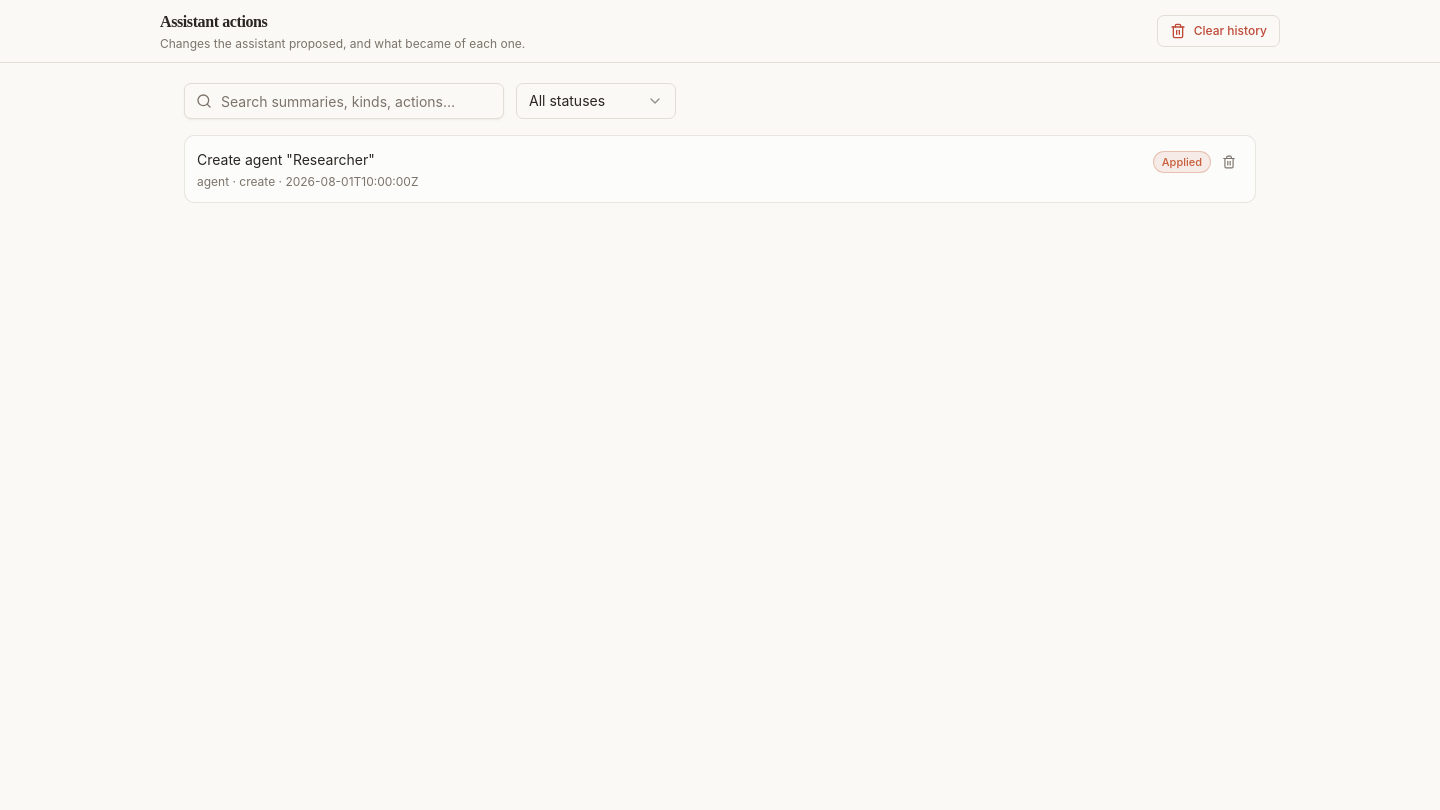
Scenario: AppActionsPage › deletes a resolved history entry after confirmation
The image size is (1440, 810).
Expected: the text "Create agent \"Researcher\"" is shown, [197, 151, 375, 168]
Click the button named "Delete history entry" at (1229, 162), box [1215, 148, 1243, 176]
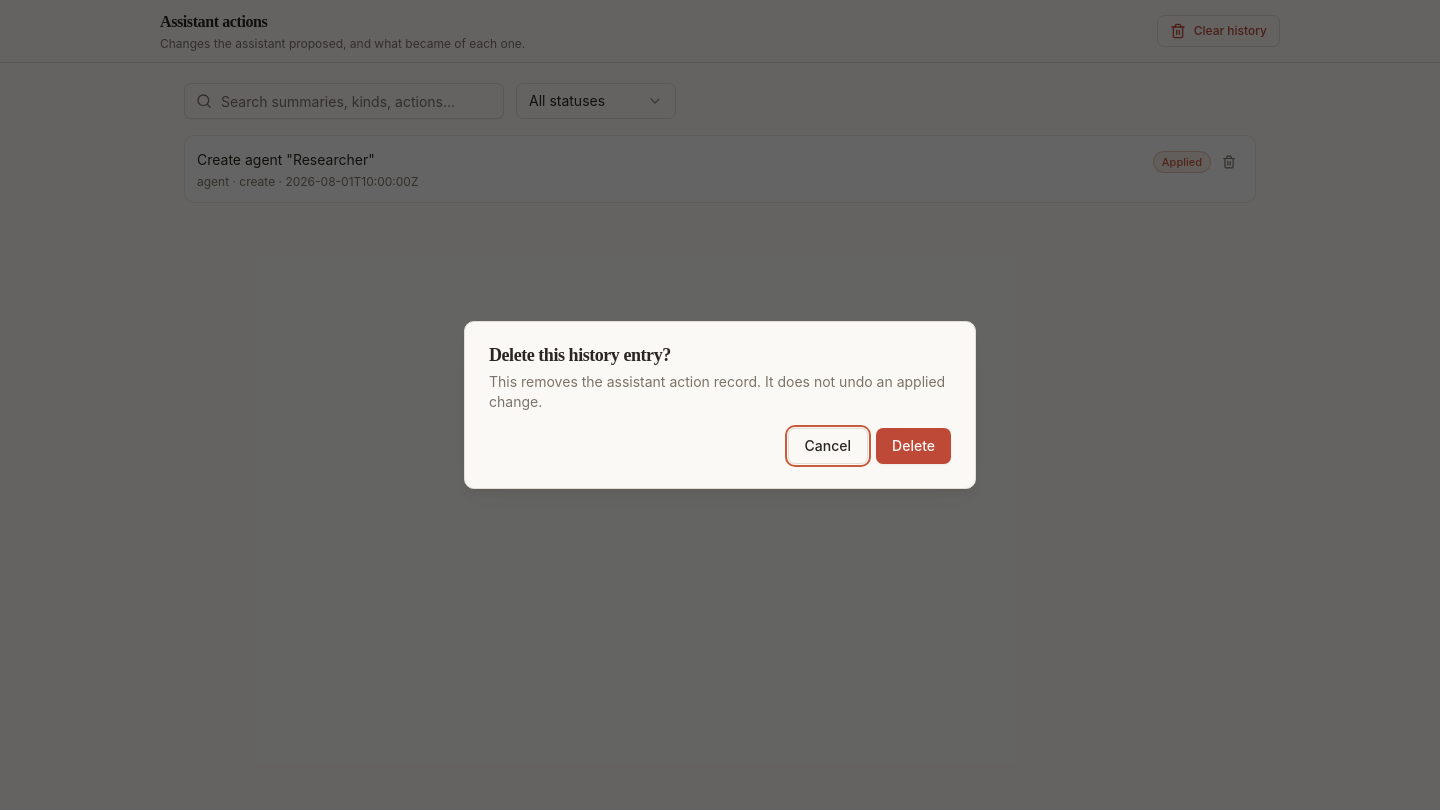
Click the button "Delete" at (914, 446), box [876, 428, 951, 464]
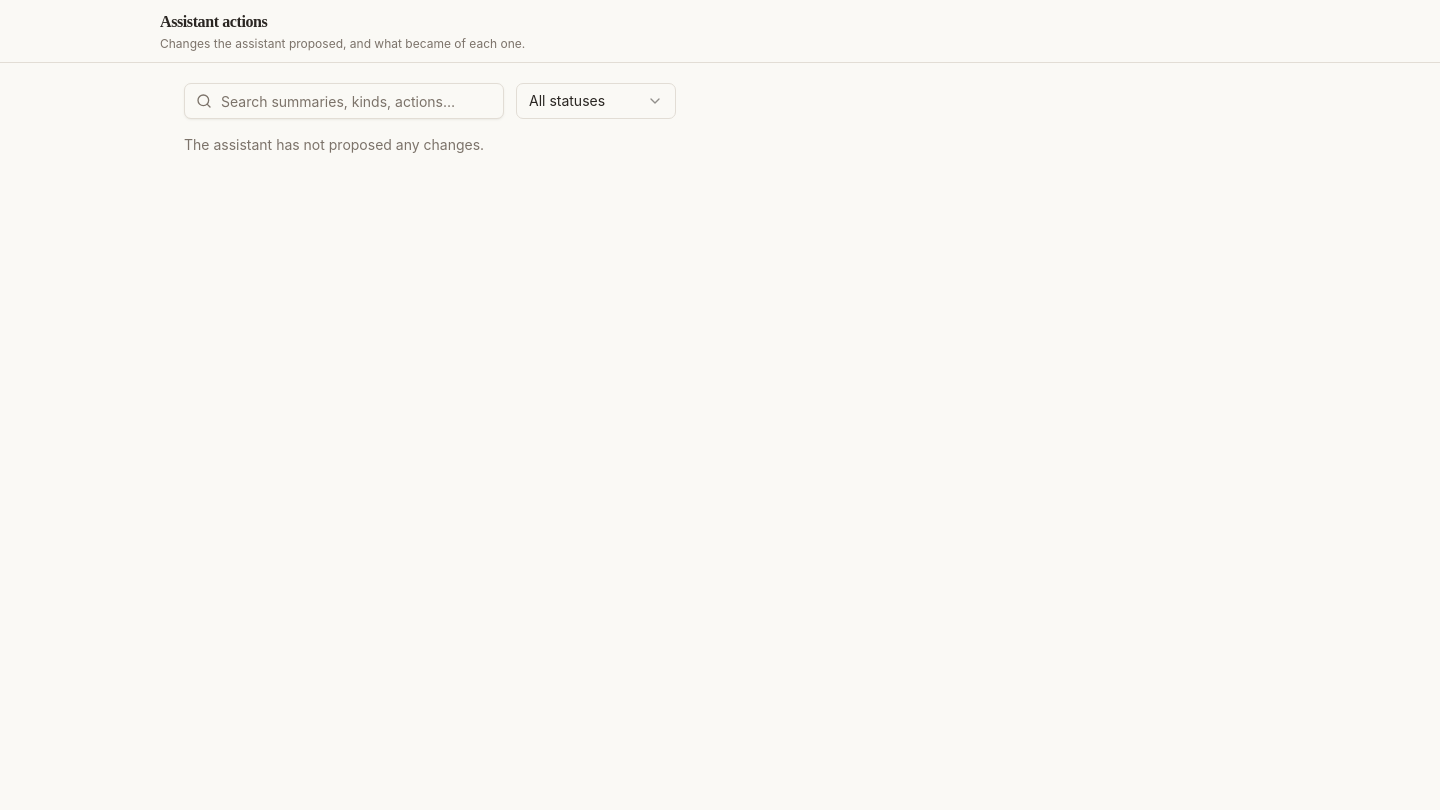
Expected: the text "The assistant has not proposed any changes." is shown, [184, 136, 484, 153]
